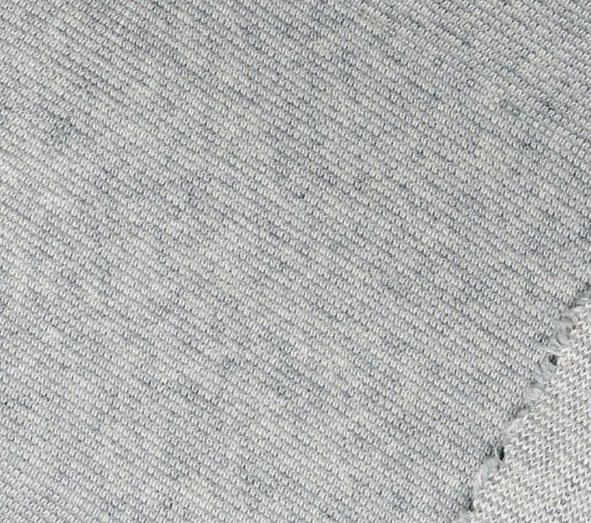slub: (449, 275, 591, 523)
